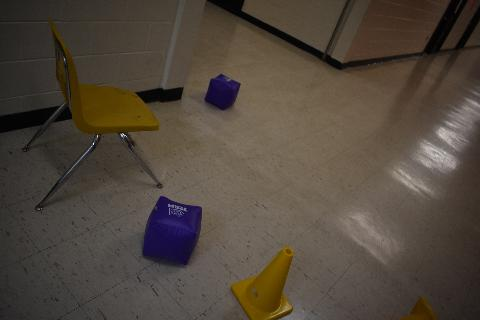cone: (229, 247, 294, 320), (397, 296, 437, 320)
cube: (142, 194, 202, 266), (204, 73, 242, 111)
